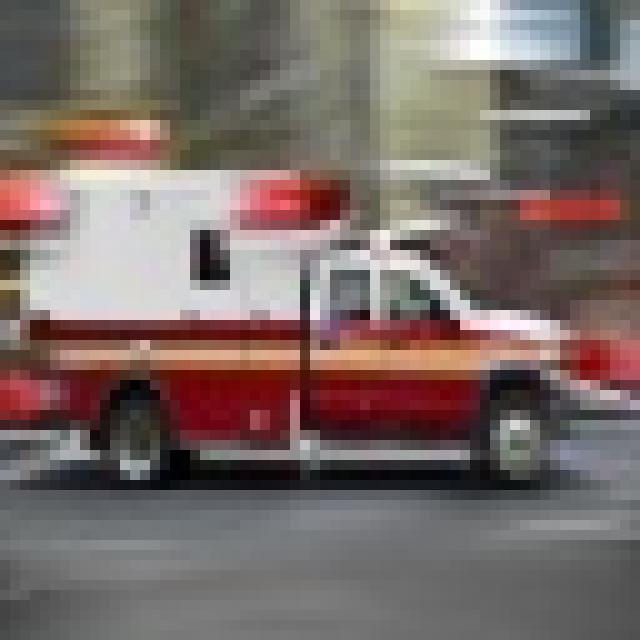Ambulance: (0, 110, 630, 480)
